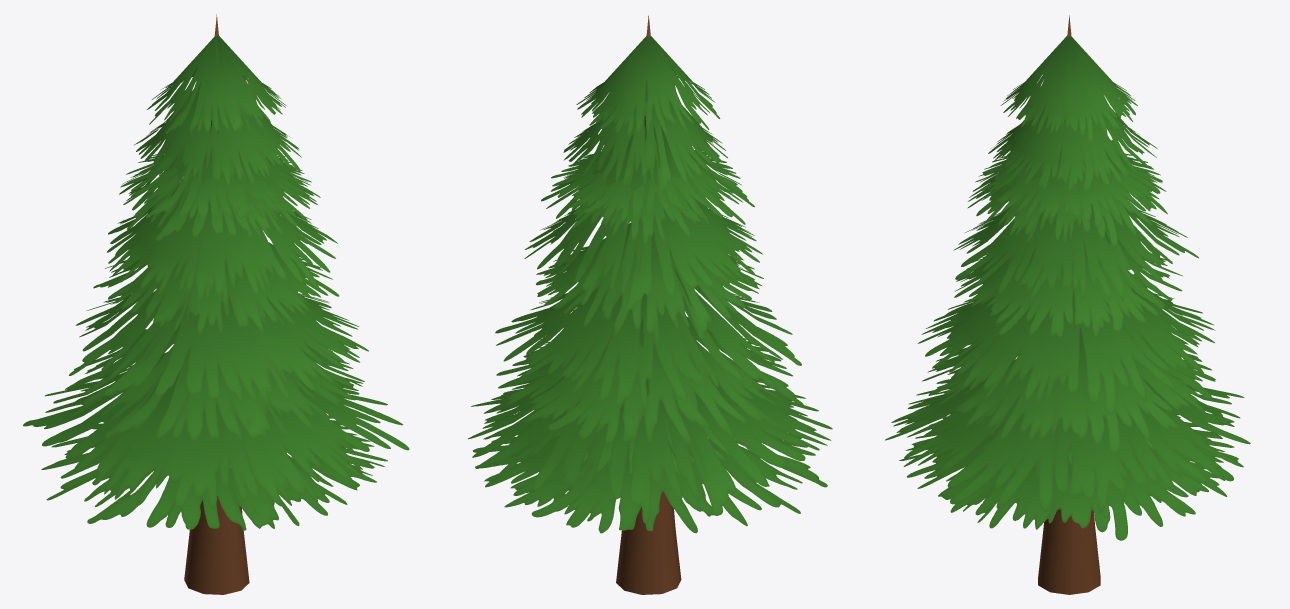
Rendered from Pine_Tree2.fbx.
The picture shows the model from 3 angles, left to right: view 1: azimuth 30°, elevation 25°; view 2: azimuth 150°, elevation 25°; view 3: azimuth 270°, elevation 25°; orthographic projection.
Visible parts, largest first — view 1: pCylinder70; view 2: pCylinder70; view 3: pCylinder70.
Boxes of the visible parts, left/top/right/bottom form: pCylinder70: left=23, top=14, right=409, bottom=594; pCylinder70: left=468, top=15, right=832, bottom=594; pCylinder70: left=885, top=15, right=1250, bottom=594.
Size of the model in its own units: 344 by 536 by 344.
